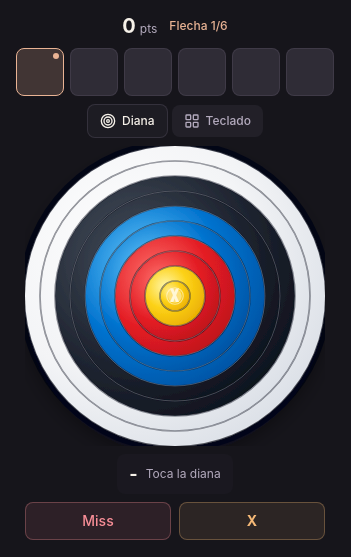
Test case: EndInput › score flow from ScoreNumpad › handles miss in numpad mode
The width and height of the screenshot is (351, 557).
Click the radio button labelled "Teclado": (217, 121) [172,105,263,137]
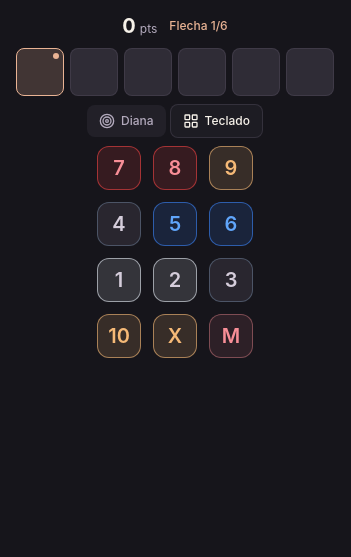
Click the button named "fallo": (231, 336) [209,314,253,358]
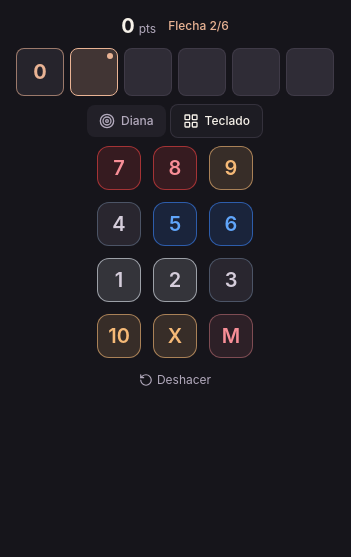
Now the button named "flecha" reads "0", box [16,48,64,96]
